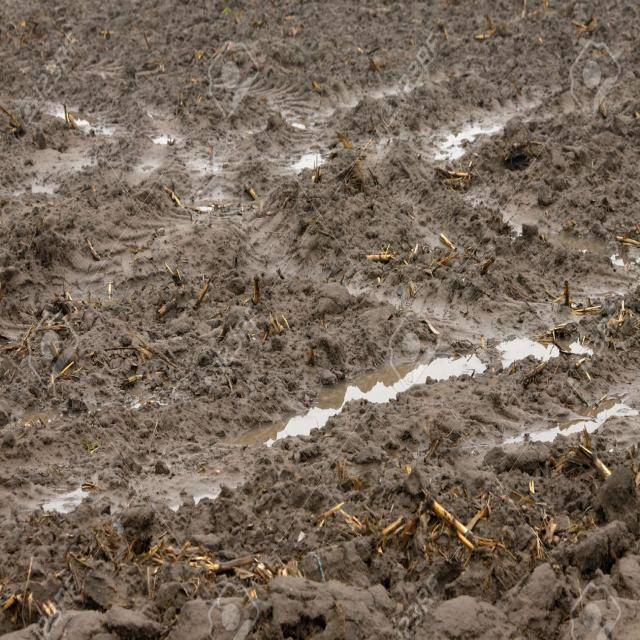suelo_humedo: (76, 41, 591, 589)
